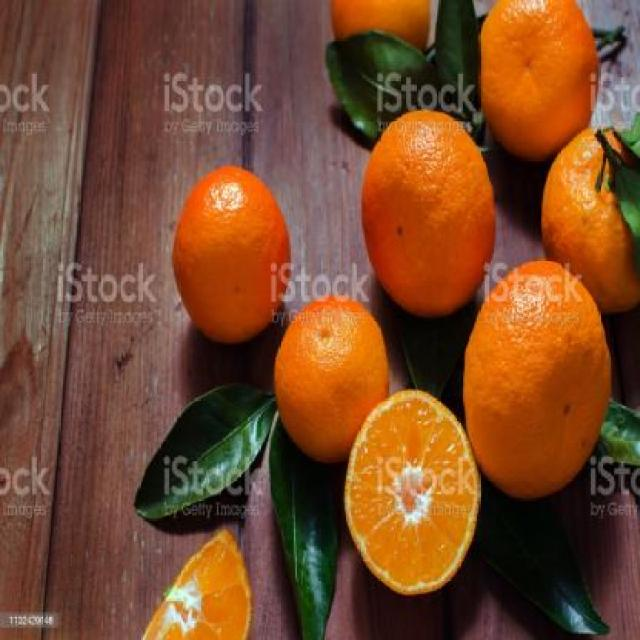Orange: (462, 257, 612, 498), (358, 108, 496, 317), (169, 163, 291, 343), (272, 292, 390, 463), (476, 0, 598, 160), (538, 123, 638, 314), (328, 0, 434, 52)
